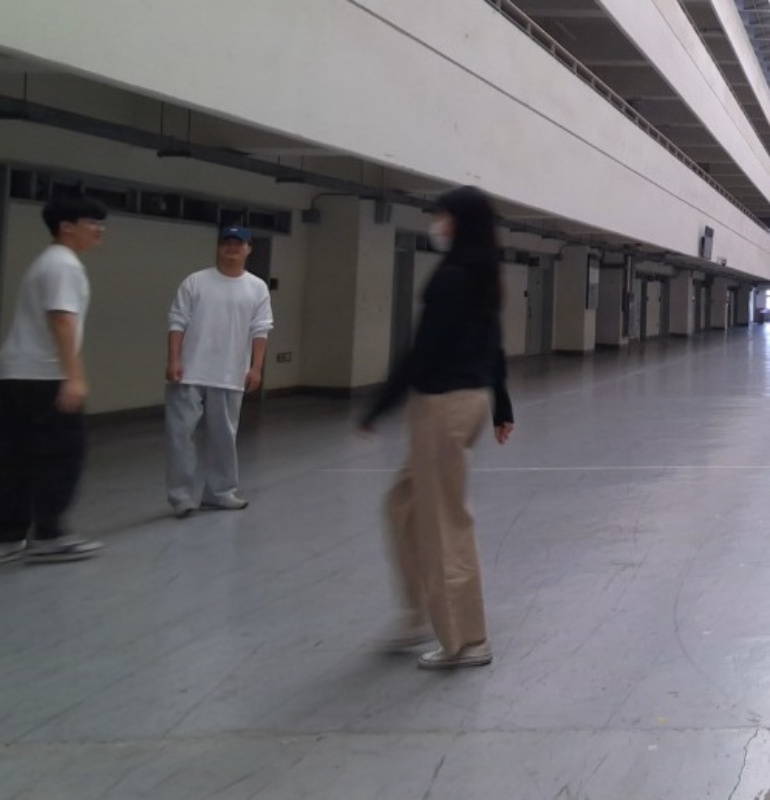person: (346, 183, 517, 673)
